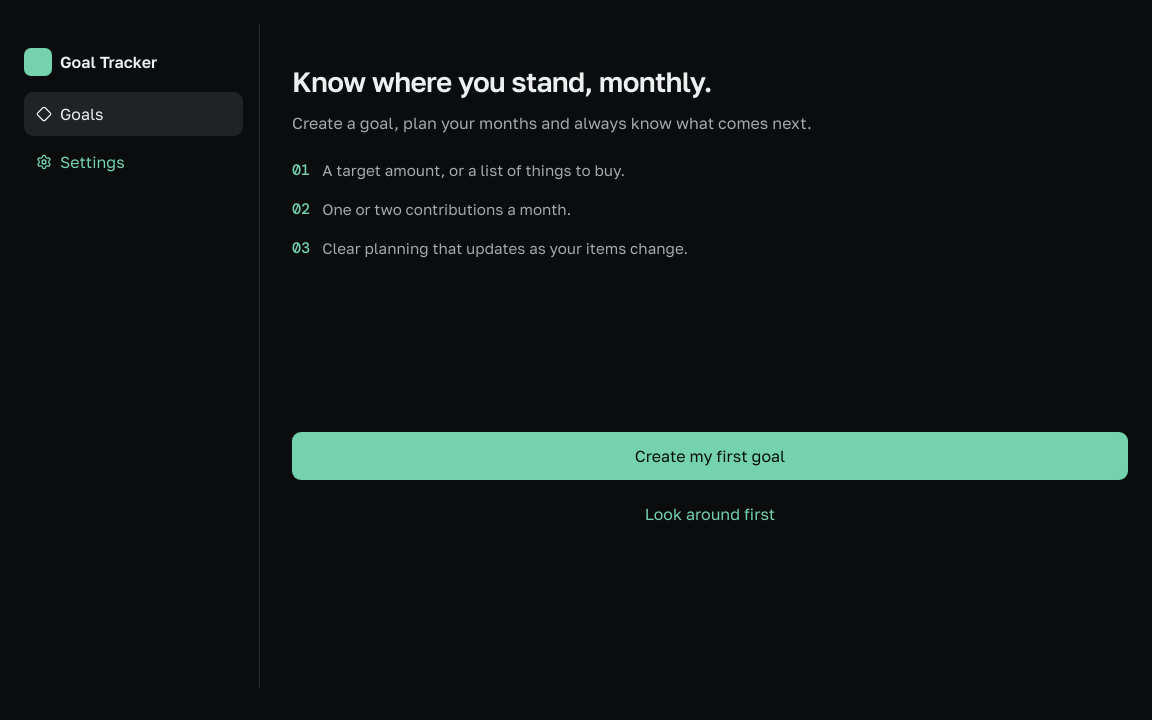
Test: M2 goals web flows › shows empty dashboard after browsing from onboarding
Click the button "Look around first". click: (710, 514)
box: [292,492,1128,536]
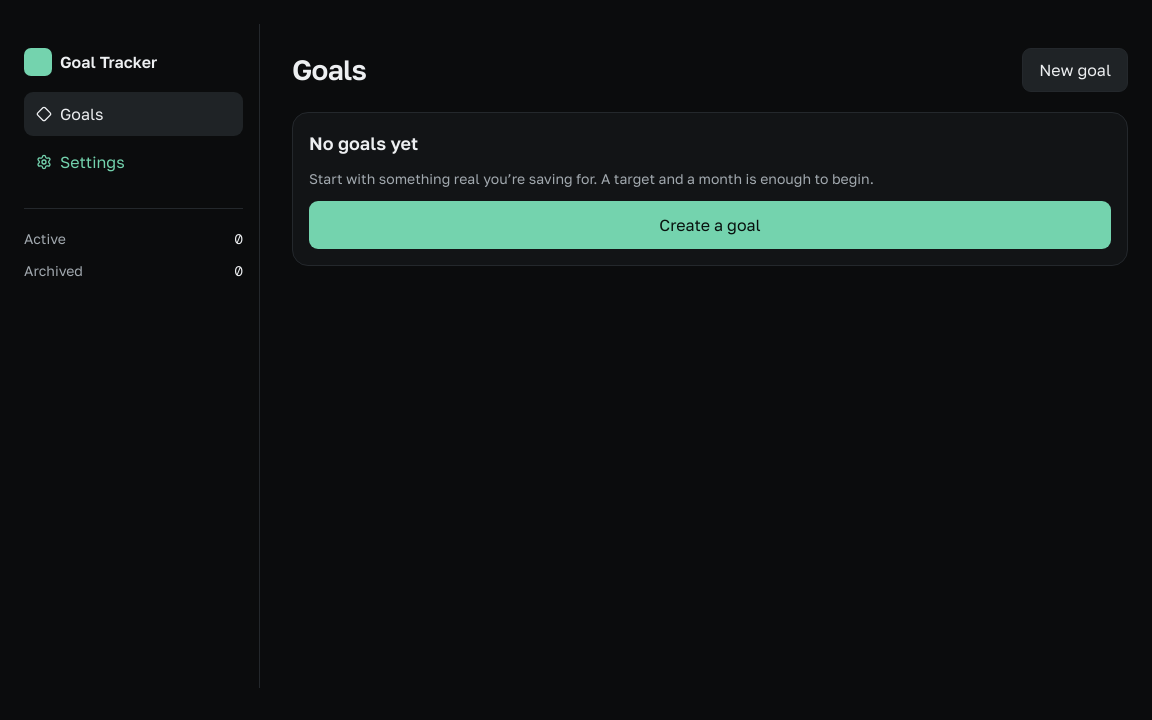
Result: the heading "No goals yet" is shown at [309,132,418,154]
Result: the button "Create a goal" is shown at [309,201,1111,249]
